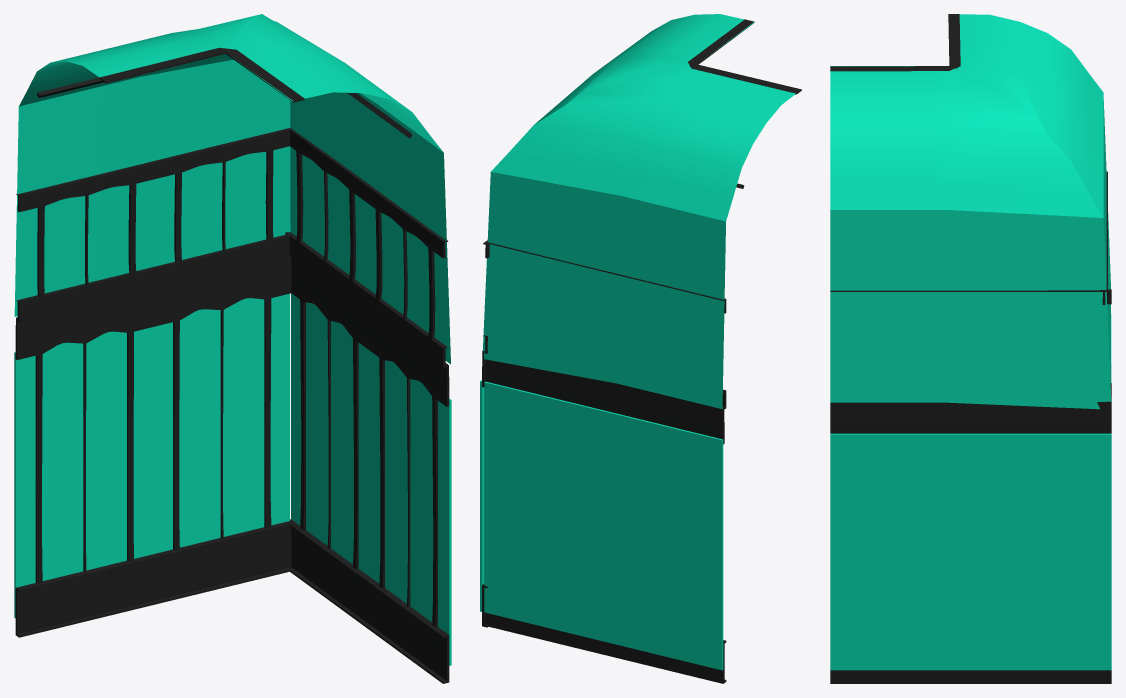
File: GardenWallCorner.fbx
3 renders of one model, left to right at view 1: azimuth 30°, elevation 25°; view 2: azimuth 150°, elevation 25°; view 3: azimuth 270°, elevation 25°, orthographic. The views are drawn at different scales.
Visible parts, largest first — view 1: GardenWallCorner; view 2: GardenWallCorner; view 3: GardenWallCorner.
Part boxes in pixels (<box>): GardenWallCorner: <box>14,14,451,683</box>; GardenWallCorner: <box>480,14,801,683</box>; GardenWallCorner: <box>830,14,1111,683</box>.
Bounding box in the file's own units: 155 × 328 × 152.
